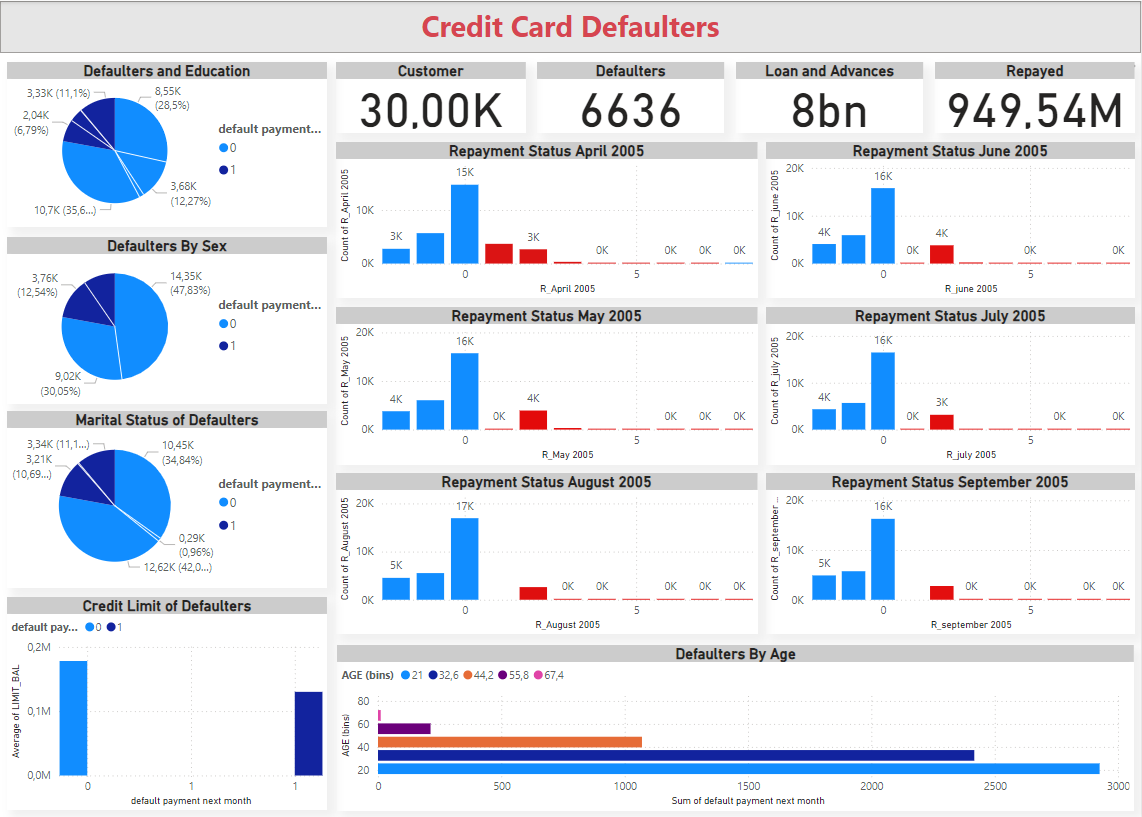

Layout of this report page (visuals, bound fields, positions):
{"tool":"powerbi","page":{"name":"Page 1","canvas":[1280,920],"ordinal":0},"visuals":[{"type":"textbox","box":[0,0,1280,58.1],"z":0},{"type":"card","title":"Defaulters","fields":{"Values":["Data.Defaulters"]},"box":[602.8,68.5,210.2,80.1],"z":1000},{"type":"card","title":"Customer","fields":{"Values":["CountNonNull(Data.ID)"]},"box":[377.5,68.5,212.6,80.1],"z":2000},{"type":"card","title":"Loan  and Advances","fields":{"Values":["Data.sum of bills"]},"box":[825.8,68.5,210.2,80.1],"z":3000},{"type":"card","title":"Repayed","fields":{"Values":["Data.sum of repayments"]},"box":[1048.9,68.5,224.2,80.1],"z":4000},{"type":"pieChart","title":"Defaulters and Education","fields":{"Category":["Data.default payment next month"],"Y":["CountNonNull(Data.EDUCATION)"],"Series":["Data.EDUCATION"]},"box":[8.1,68.5,358.9,184.7],"z":5000},{"type":"pieChart","title":"Defaulters By Sex","fields":{"Category":["Data.default payment next month"],"Y":["CountNonNull(Data.SEX)"],"Series":["Data.SEX"]},"box":[8.1,264.8,358.9,187],"z":6000},{"type":"pieChart","title":"Marital Status of Defaulters","fields":{"Category":["Data.default payment next month"],"Y":["CountNonNull(Data.MARRIAGE)"],"Series":["Data.MARRIAGE"]},"box":[8.1,460,358.9,198.6],"z":7000},{"type":"clusteredColumnChart","title":"Repayment Status April 2005","fields":{"Category":["Data.R_April 2005"],"Y":["CountNonNull(Data.R_April 2005)"]},"box":[377.5,158,472.7,175.4],"z":8000},{"type":"clusteredColumnChart","title":"Credit Limit of Defaulters","fields":{"Category":["Data.default payment next month"],"Y":["Avg(Data.LIMIT_BAL)"],"Series":["Data.default payment next month"]},"box":[8.1,669,358.9,239.3],"z":9000},{"type":"clusteredColumnChart","title":"Repayment Status May 2005","fields":{"Category":["Data.R_May 2005"],"Y":["CountNonNull(Data.R_May 2005)"]},"box":[377.5,343.8,472.7,176.6],"z":10000},{"type":"clusteredColumnChart","title":"Repayment Status June 2005","fields":{"Category":["Data.R_june 2005"],"Y":["CountNonNull(Data.R_june 2005)"]},"box":[859.5,158,413.5,175.4],"z":11000},{"type":"clusteredColumnChart","title":"Repayment Status July 2005","fields":{"Category":["Data.R_july 2005"],"Y":["CountNonNull(Data.R_july 2005)"]},"box":[859.5,343.8,413.5,176.6],"z":12000},{"type":"clusteredColumnChart","title":"Repayment Status August 2005","fields":{"Category":["Data.R_August 2005"],"Y":["CountNonNull(Data.R_August 2005)"]},"box":[377.5,529.7,472.7,181.2],"z":13000},{"type":"clusteredColumnChart","title":"Repayment Status September 2005","fields":{"Category":["Data.R_september 2005"],"Y":["CountNonNull(Data.R_september 2005)"]},"box":[859.5,529.7,413.5,181.2],"z":14000},{"type":"barChart","title":"Defaulters By Age","fields":{"Y":["Sum(Data.default payment next month)"],"Category":["Data.AGE (bins)"],"Series":["Data.AGE (bins)"]},"box":[378.7,722.5,894.4,185.8],"z":15000}]}

Visuals, with their boxes in screenshot pixels (x1, y1, x2, y2), scaled from the page's 1280x920 canvas onto the 1142x817 screenshot:
textbox: [x1=0, y1=0, x2=1141, y2=52]
"Defaulters" card: [x1=538, y1=61, x2=725, y2=132]
"Customer" card: [x1=337, y1=61, x2=526, y2=132]
"Loan  and Advances" card: [x1=737, y1=61, x2=924, y2=132]
"Repayed" card: [x1=936, y1=61, x2=1136, y2=132]
"Defaulters and Education" pieChart: [x1=7, y1=61, x2=327, y2=225]
"Defaulters By Sex" pieChart: [x1=7, y1=235, x2=327, y2=401]
"Marital Status of Defaulters" pieChart: [x1=7, y1=408, x2=327, y2=585]
"Repayment Status April 2005" clusteredColumnChart: [x1=337, y1=140, x2=759, y2=296]
"Credit Limit of Defaulters" clusteredColumnChart: [x1=7, y1=594, x2=327, y2=807]
"Repayment Status May 2005" clusteredColumnChart: [x1=337, y1=305, x2=759, y2=462]
"Repayment Status June 2005" clusteredColumnChart: [x1=767, y1=140, x2=1136, y2=296]
"Repayment Status July 2005" clusteredColumnChart: [x1=767, y1=305, x2=1136, y2=462]
"Repayment Status August 2005" clusteredColumnChart: [x1=337, y1=470, x2=759, y2=631]
"Repayment Status September 2005" clusteredColumnChart: [x1=767, y1=470, x2=1136, y2=631]
"Defaulters By Age" barChart: [x1=338, y1=642, x2=1136, y2=807]
